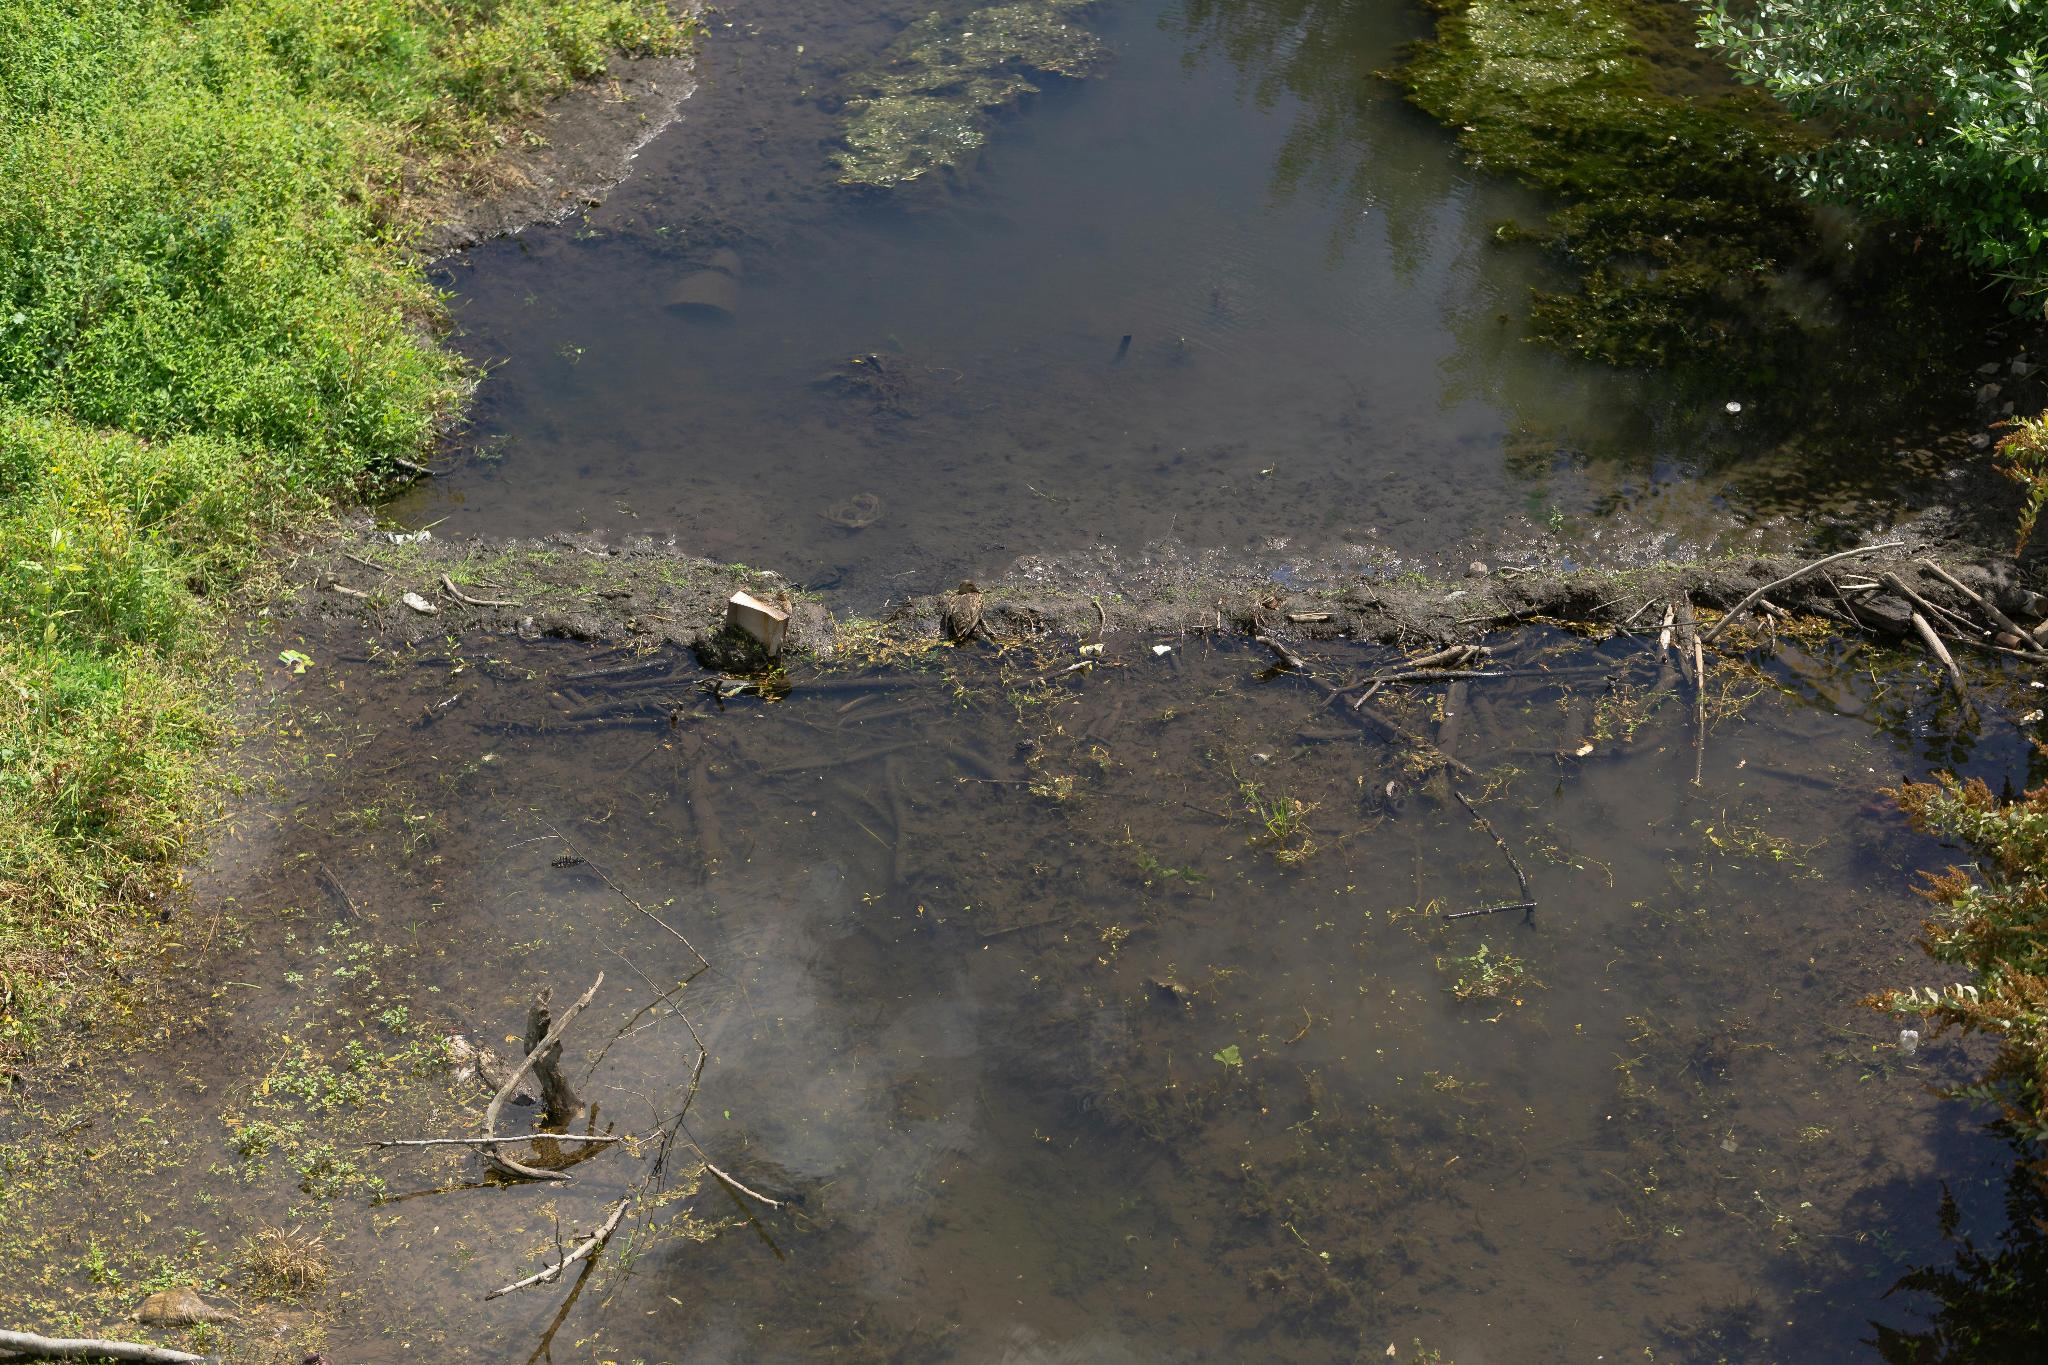Stagnant water: (218, 0, 2034, 1342)
